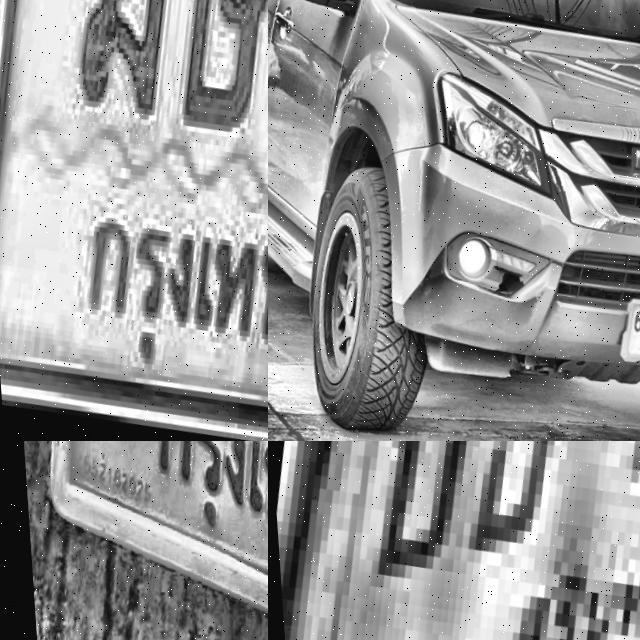license-plate: (0, 0, 268, 441), (268, 441, 640, 640), (0, 441, 268, 640), (602, 289, 640, 386)
